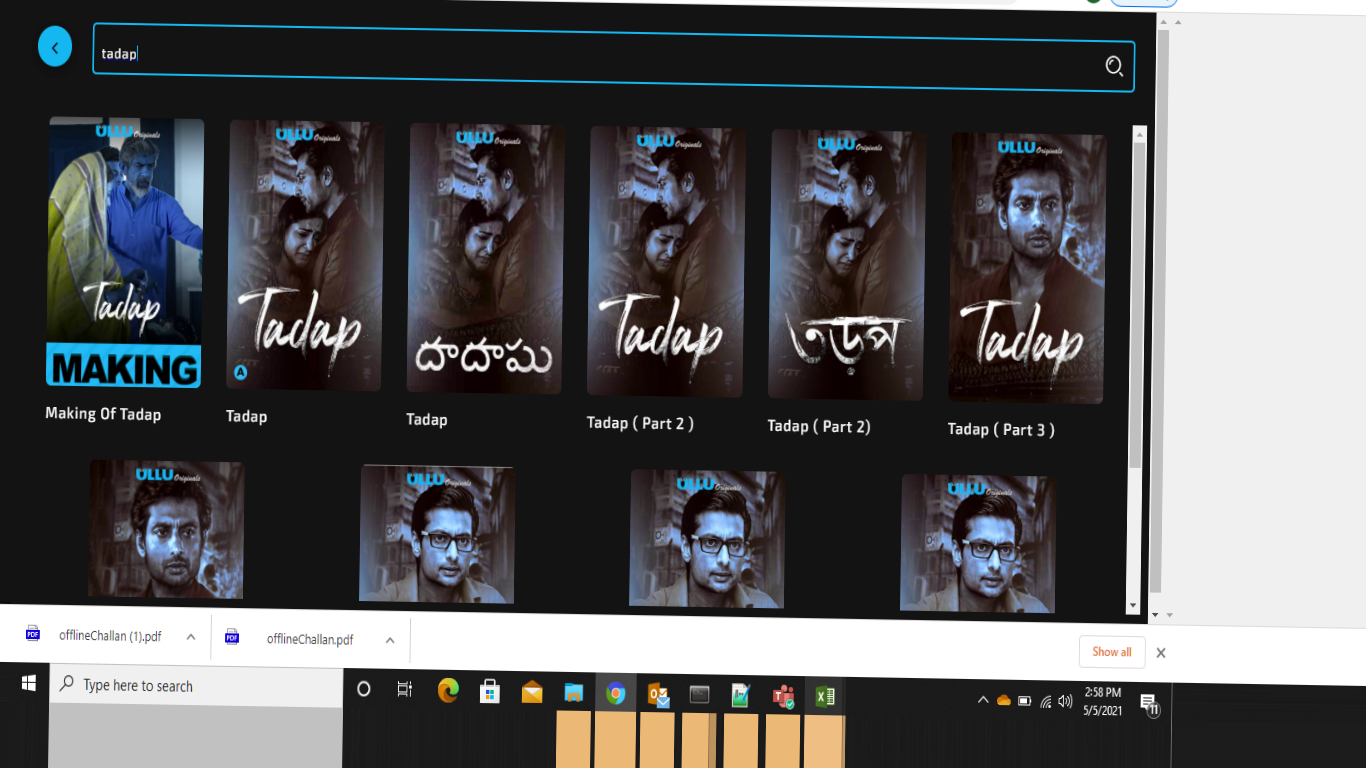backbutton: (26, 14, 68, 70)
searchicon: (1081, 40, 1149, 92)
searchtextbox: (88, 18, 1144, 105)
